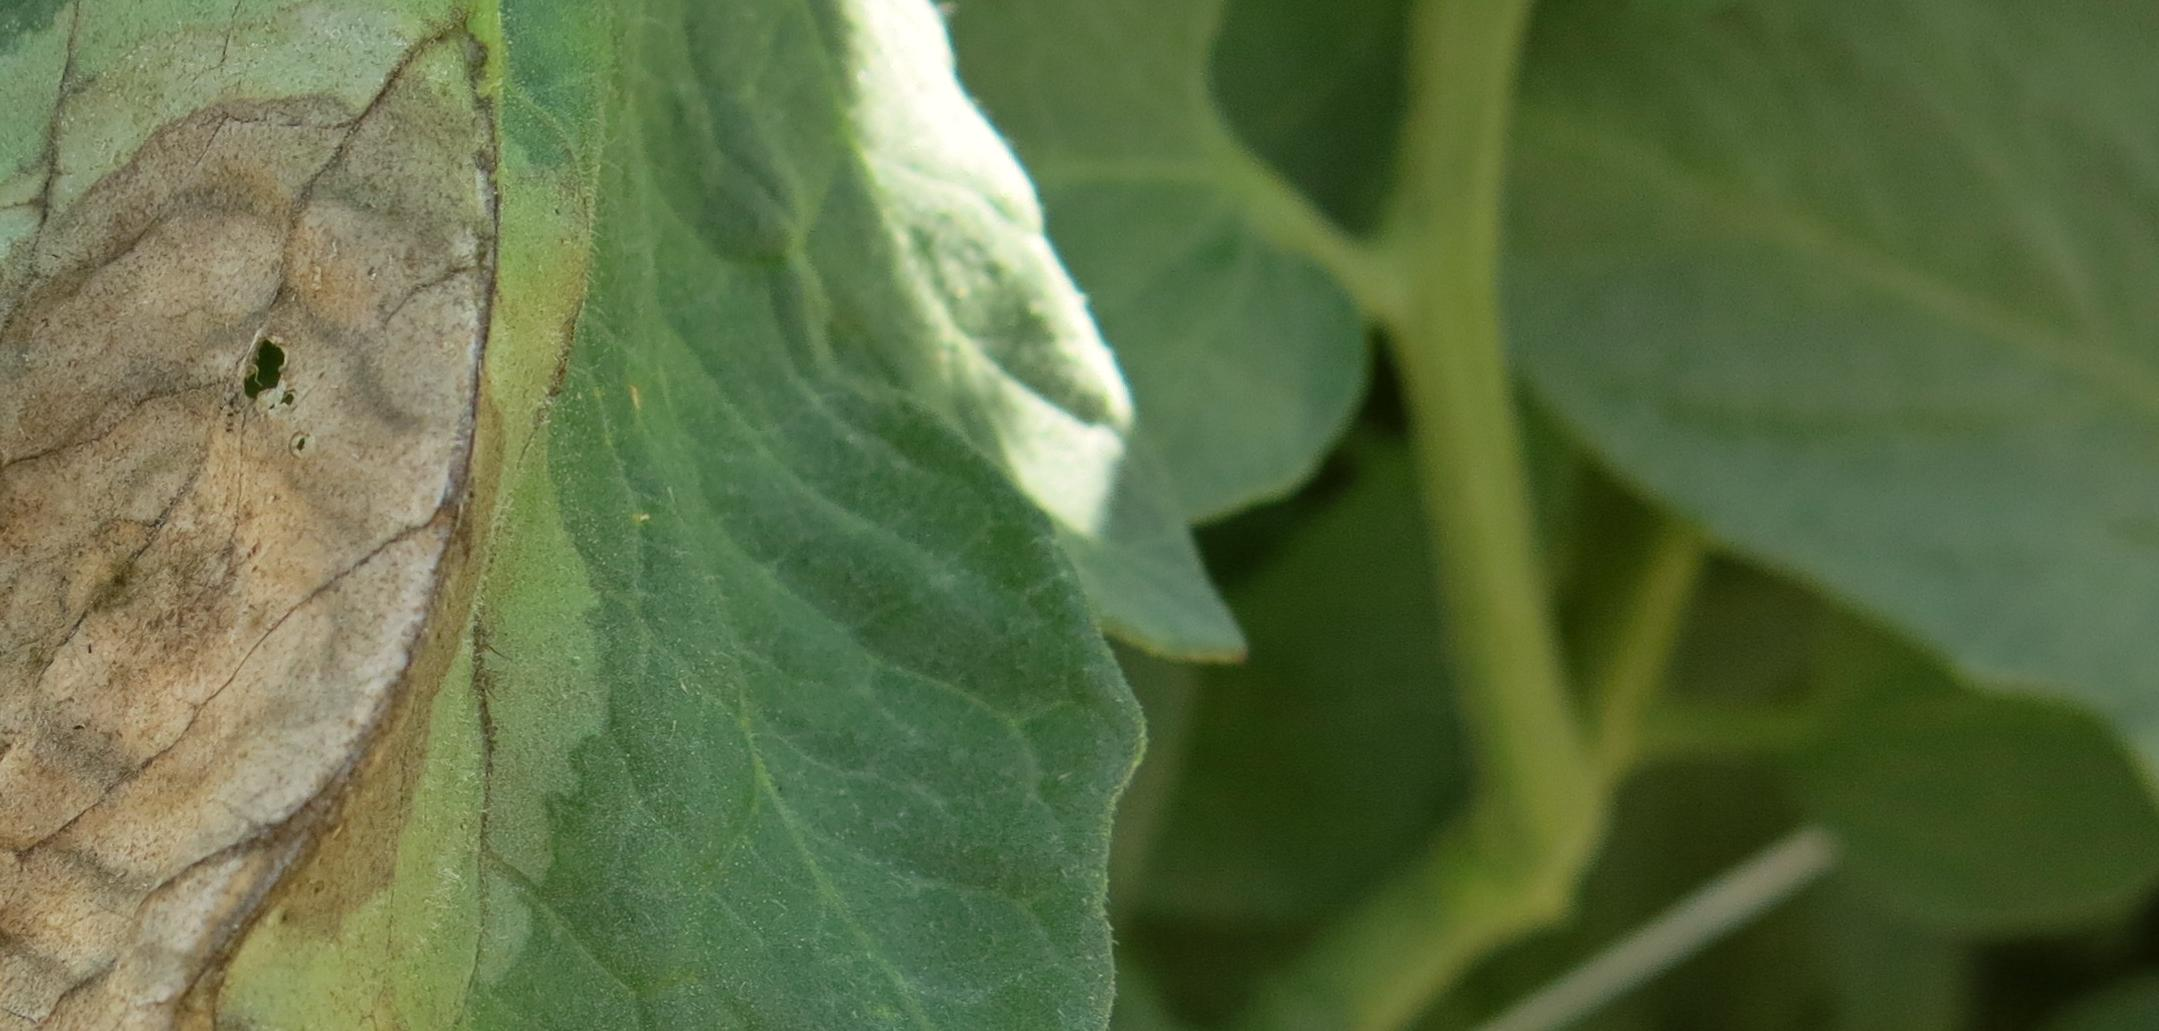Tomato leaf late blight: (0, 0, 1351, 1031)
